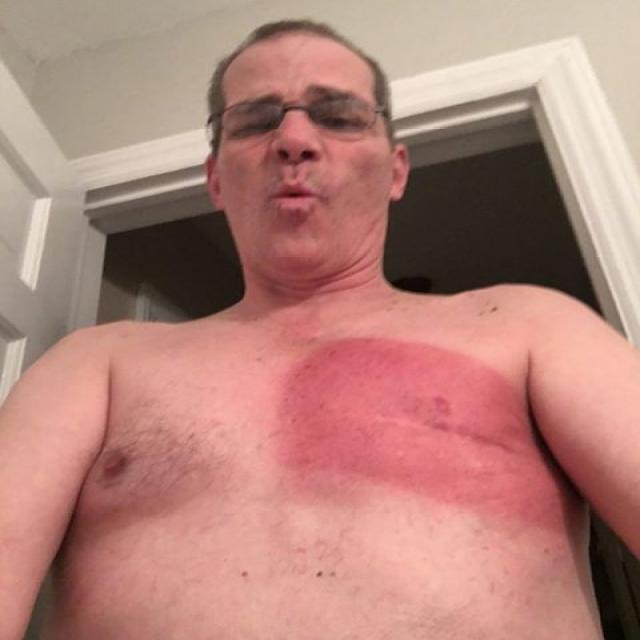mobile_phonerotation: (0, 19, 639, 639)
